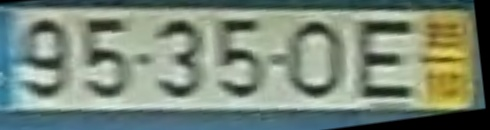3: (150, 15, 209, 102)
5: (209, 17, 270, 102), (80, 16, 137, 105)
9: (16, 14, 77, 103)
E: (351, 17, 418, 103)
O: (284, 17, 350, 103)
